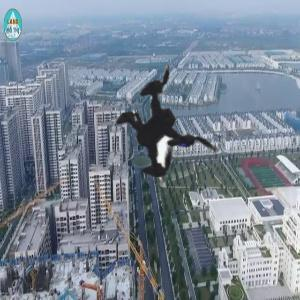drone: (43, 22, 259, 238)
